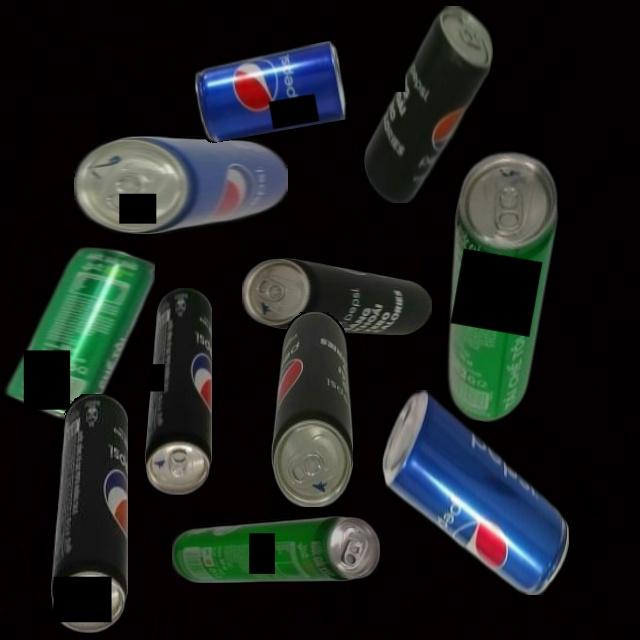debris: (421, 144, 569, 428), (381, 389, 569, 595), (3, 246, 155, 424), (362, 5, 493, 203), (74, 135, 288, 234), (49, 393, 128, 633), (191, 40, 349, 144), (270, 311, 353, 507), (242, 257, 432, 335), (143, 287, 212, 495), (171, 516, 380, 583)
